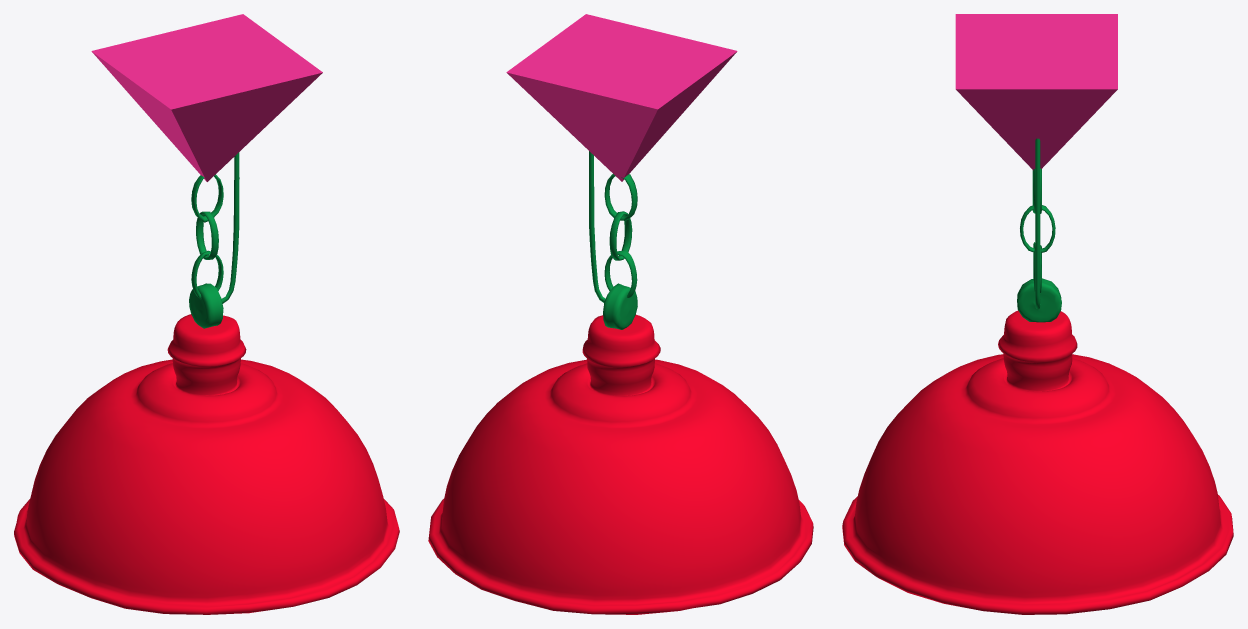
Rendered from Lamp.fbx.
The picture shows the model from 3 angles, left to right: view 1: azimuth 30°, elevation 25°; view 2: azimuth 150°, elevation 25°; view 3: azimuth 270°, elevation 25°; orthographic projection.
Visible parts, largest first — view 1: Object; view 2: Object; view 3: Object.
Boxes of the visible parts, left/top/right/bottom form: Object: left=14, top=14, right=399, bottom=614; Object: left=428, top=14, right=813, bottom=614; Object: left=842, top=14, right=1233, bottom=614.
Bounding box in the file's own units: 76 × 103 × 76.13.
